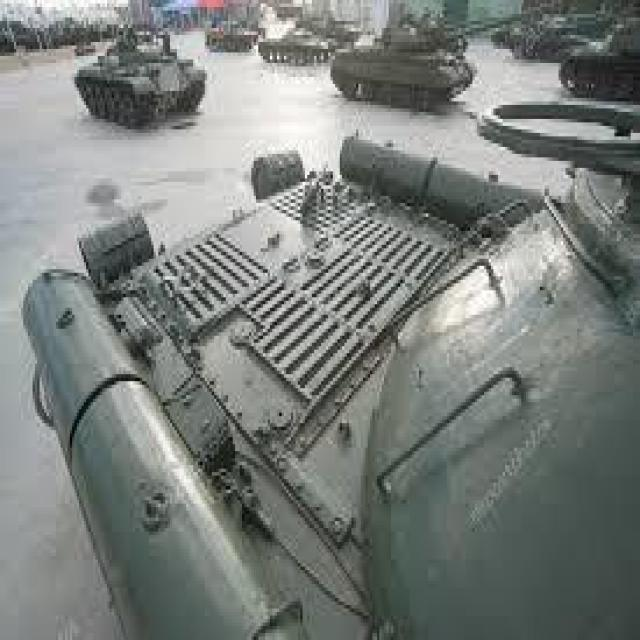Tanks: (45, 134, 625, 620), (74, 25, 208, 136), (328, 14, 470, 115), (550, 26, 634, 107), (251, 14, 328, 77), (207, 19, 258, 65)
